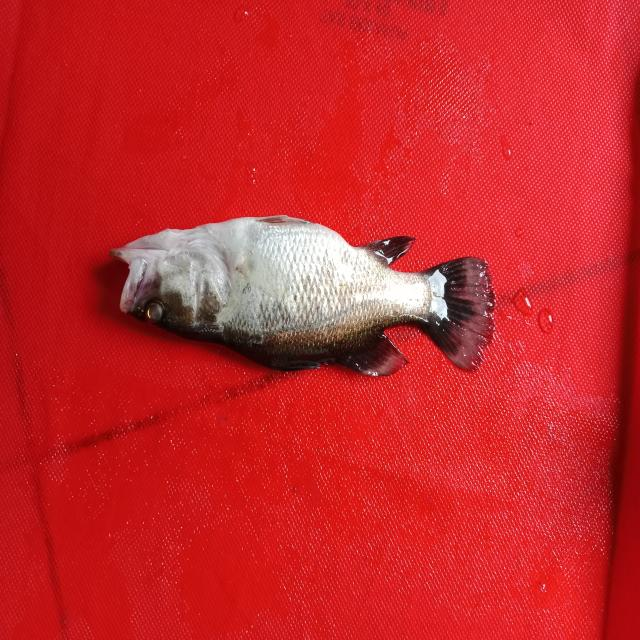ikan: (104, 179, 518, 398)
